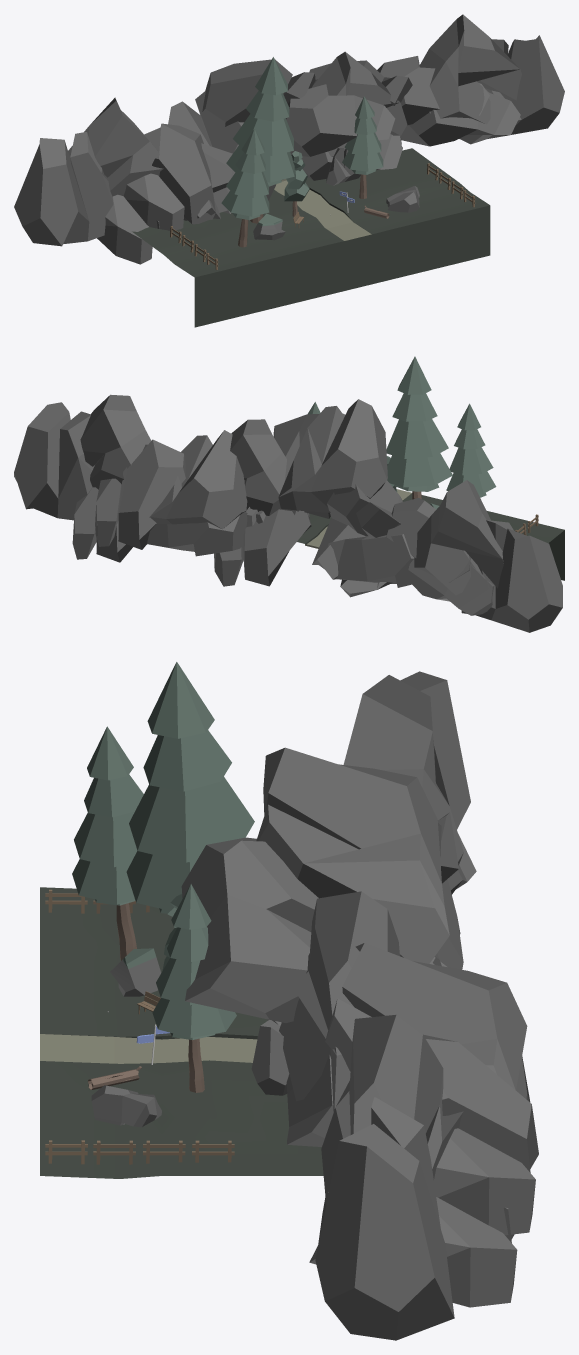
The model's file is silvaforestA1.fbx.
3 views of the same model, one above another, from view 1: azimuth 30°, elevation 25°; view 2: azimuth 150°, elevation 25°; view 3: azimuth 270°, elevation 25° (orthographic). The views are drawn at different scales.
Parts seen in each view (by area): view 1: pPlane1, pasted__pasted__pPlatonic34, pasted__pasted__pPlatonic79, pasted__pasted__pPlatonic31, pasted__pasted__pPlatonic33, pasted__pasted__pCone3 (×3), pasted__pasted__pPlatonic29, pasted__pasted__pCone2 (×3), pasted__pasted__pCone4 (×2), pasted__pasted__pPlatonic30, pasted__pasted__pCone5, pasted__pasted__pPlatonic94 (+2 smaller); view 2: pasted__pasted__pPlatonic79, pasted__pasted__pPlatonic34, pasted__pasted__pPlatonic33, pasted__pasted__pPlatonic30, pasted__pasted__pPlatonic29, pasted__pasted__pPlatonic32, pasted__pasted__pCone3 (×2), pasted__pasted__pCone2 (×2), pPlane1, pasted__pasted__pCone4 (×2), pasted__pasted__pPlatonic31, pasted__pasted__pCone5 (×2); view 3: pasted__pasted__pPlatonic79, pPlane1, pasted__pasted__pPlatonic33, pasted__pasted__pPlatonic31, pasted__pasted__pPlatonic34, pasted__pasted__pCone3 (×3), pasted__pasted__pPlatonic29, pasted__pasted__pCone2 (×3), pasted__pasted__pCone4 (×3), pasted__pasted__pCone5 (×3), pasted__pasted__pPlatonic30, pasted__pasted__pPlatonic94 (+3 smaller).
Part boxes in pixels (<box>): pPlane1: <box>132,148,490,327</box>; pasted__pasted__pPlatonic34: <box>14,90,276,264</box>; pasted__pasted__pPlatonic79: <box>309,14,564,146</box>; pasted__pasted__pPlatonic31: <box>286,84,395,156</box>; pasted__pasted__pPlatonic33: <box>202,59,315,126</box>; pasted__pasted__pCone3 (×3): <box>226,114,381,197</box>; pasted__pasted__pPlatonic29: <box>311,51,407,156</box>; pasted__pasted__pCone2 (×3): <box>221,145,383,216</box>; pasted__pasted__pCone4 (×2): <box>235,91,289,173</box>; pasted__pasted__pPlatonic30: <box>282,134,402,180</box>; pasted__pasted__pCone5: <box>255,57,287,95</box>; pasted__pasted__pPlatonic94: <box>386,186,419,212</box>; pasted__pasted__pPlatonic79: <box>14,394,247,562</box>; pasted__pasted__pPlatonic34: <box>312,480,562,632</box>; pasted__pasted__pPlatonic33: <box>278,399,387,512</box>; pasted__pasted__pPlatonic30: <box>214,509,311,586</box>; pasted__pasted__pPlatonic29: <box>230,419,298,515</box>; pasted__pasted__pPlatonic32: <box>327,534,415,587</box>; pasted__pasted__pCone3 (×2): <box>386,419,493,475</box>; pasted__pasted__pCone2 (×2): <box>387,453,496,493</box>; pPlane1: <box>297,489,564,580</box>; pasted__pasted__pCone4 (×2): <box>392,393,485,449</box>; pasted__pasted__pPlatonic31: <box>273,413,345,518</box>; pasted__pasted__pCone5 (×2): <box>397,356,480,430</box>; pasted__pasted__pPlatonic79: <box>309,943,538,1340</box>; pPlane1: <box>40,887,323,1178</box>; pasted__pasted__pPlatonic33: <box>256,747,449,963</box>; pasted__pasted__pPlatonic31: <box>181,837,318,1022</box>; pasted__pasted__pPlatonic34: <box>343,671,476,966</box>; pasted__pasted__pCone3 (×3): <box>74,776,254,1005</box>; pasted__pasted__pPlatonic29: <box>279,891,399,1111</box>; pasted__pasted__pCone2 (×3): <box>72,851,236,1037</box>; pasted__pasted__pCone4 (×3): <box>84,730,231,961</box>; pasted__pasted__pCone5 (×3): <box>87,662,214,929</box>; pasted__pasted__pPlatonic30: <box>286,1054,333,1146</box>; pasted__pasted__pPlatonic94: <box>91,1085,161,1127</box>.
Bounding box in the file's own units: 2435 × 947 × 981.
